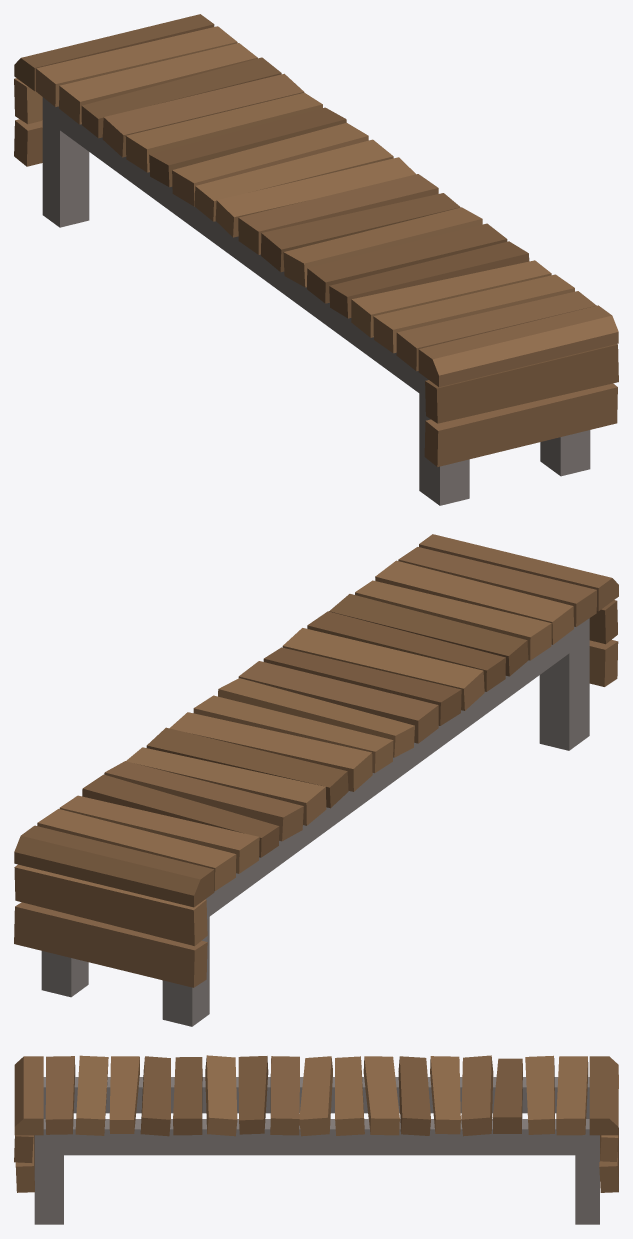
Rendered from Town_Bench_2.fbx.
3 renders of one model, top to bottom at view 1: azimuth 30°, elevation 25°; view 2: azimuth 150°, elevation 25°; view 3: azimuth 270°, elevation 25°, orthographic. The views are drawn at different scales.
Visible parts, largest first — view 1: Town_Bench_2; view 2: Town_Bench_2; view 3: Town_Bench_2.
Boxes of the visible parts, box(x1,y1,x2,y2) form: Town_Bench_2: box(14, 14, 618, 505); Town_Bench_2: box(14, 534, 618, 1026); Town_Bench_2: box(14, 1055, 618, 1224).
Size of the model in its own units: 58.65 by 48.8 by 238.
Materials: 1 (1 with a texture image).
